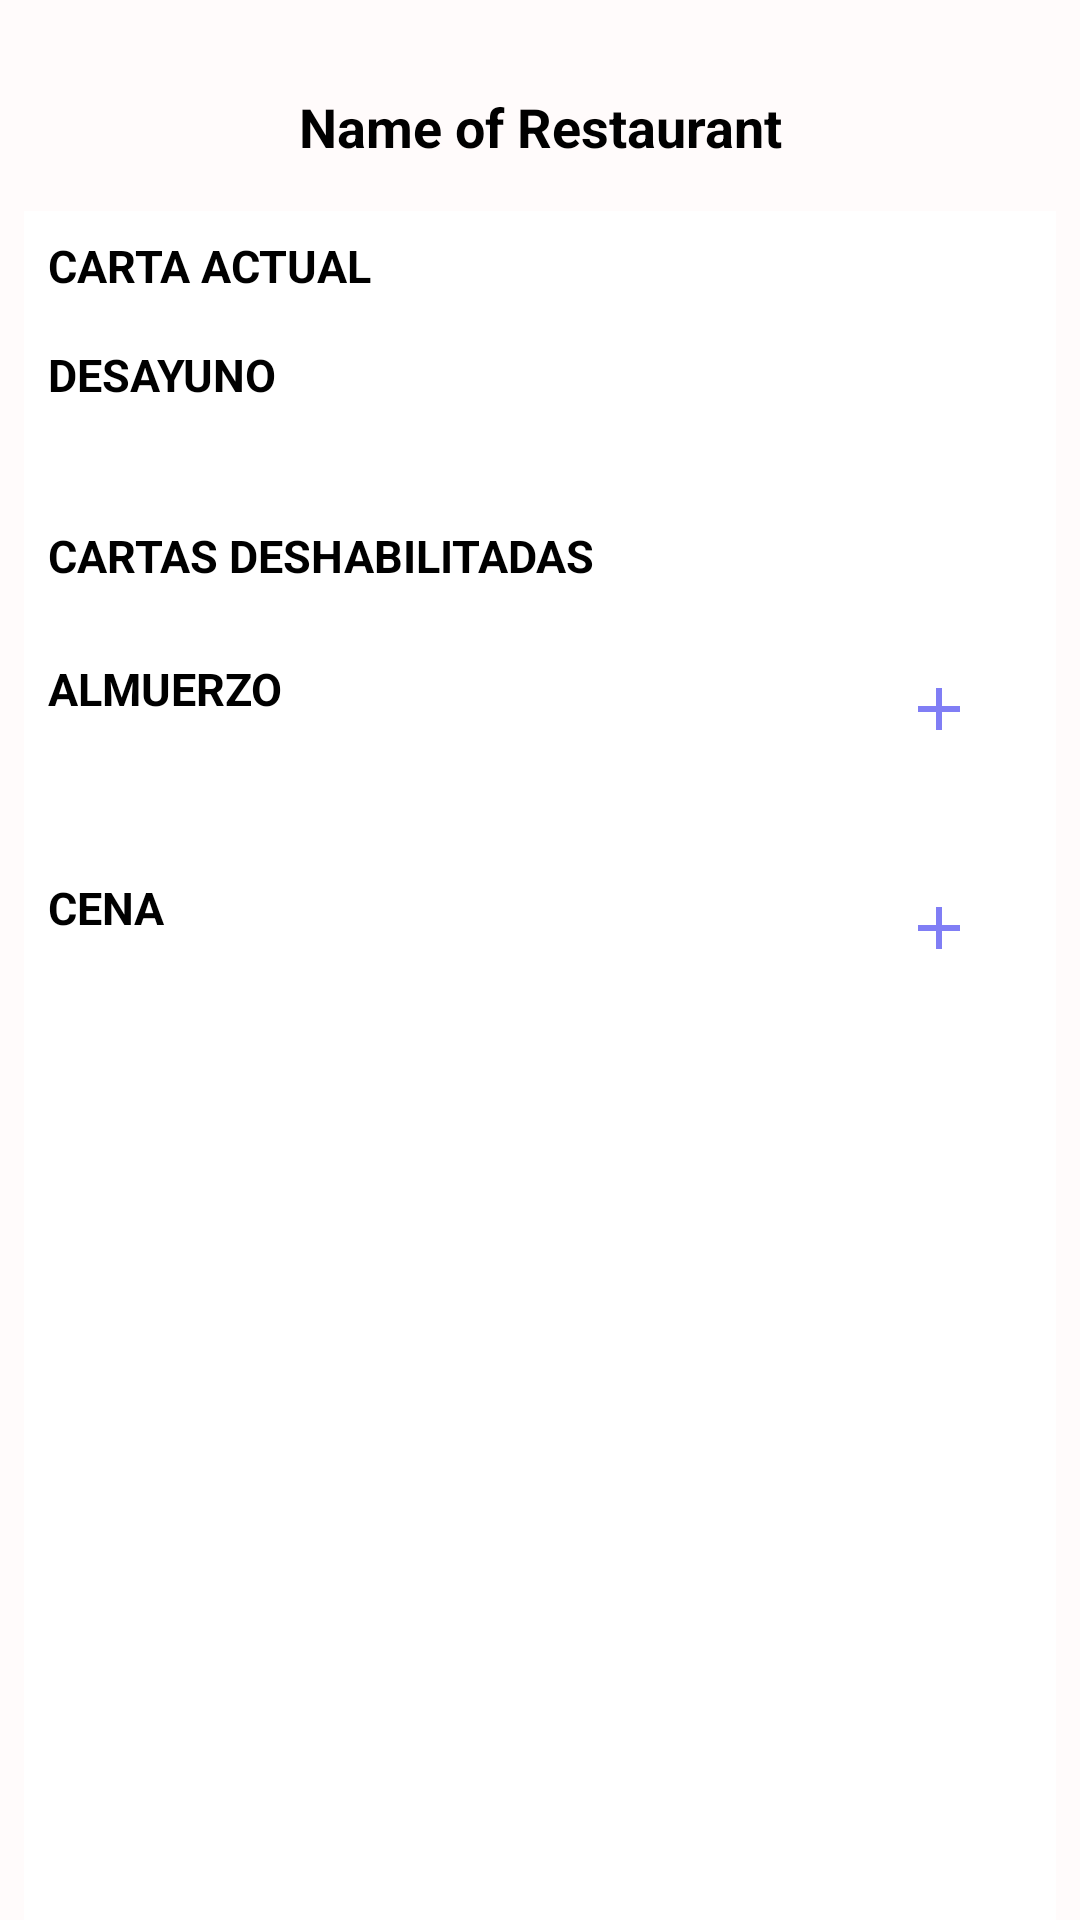

Where to tap for icons on this 1080px×1920px app screen, as point (x, y):
Plus: point (939, 709), point (939, 928)
